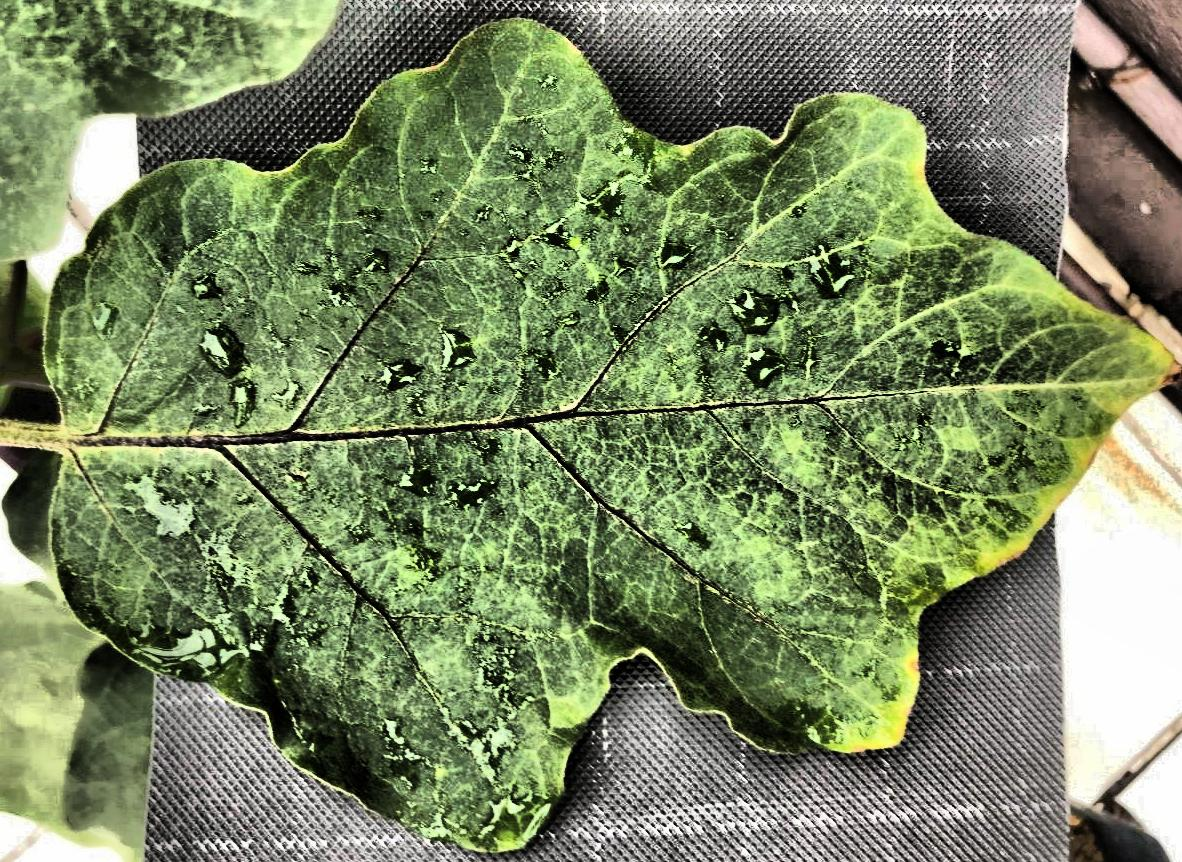Non-critical Stress: (1, 0, 1182, 862)
